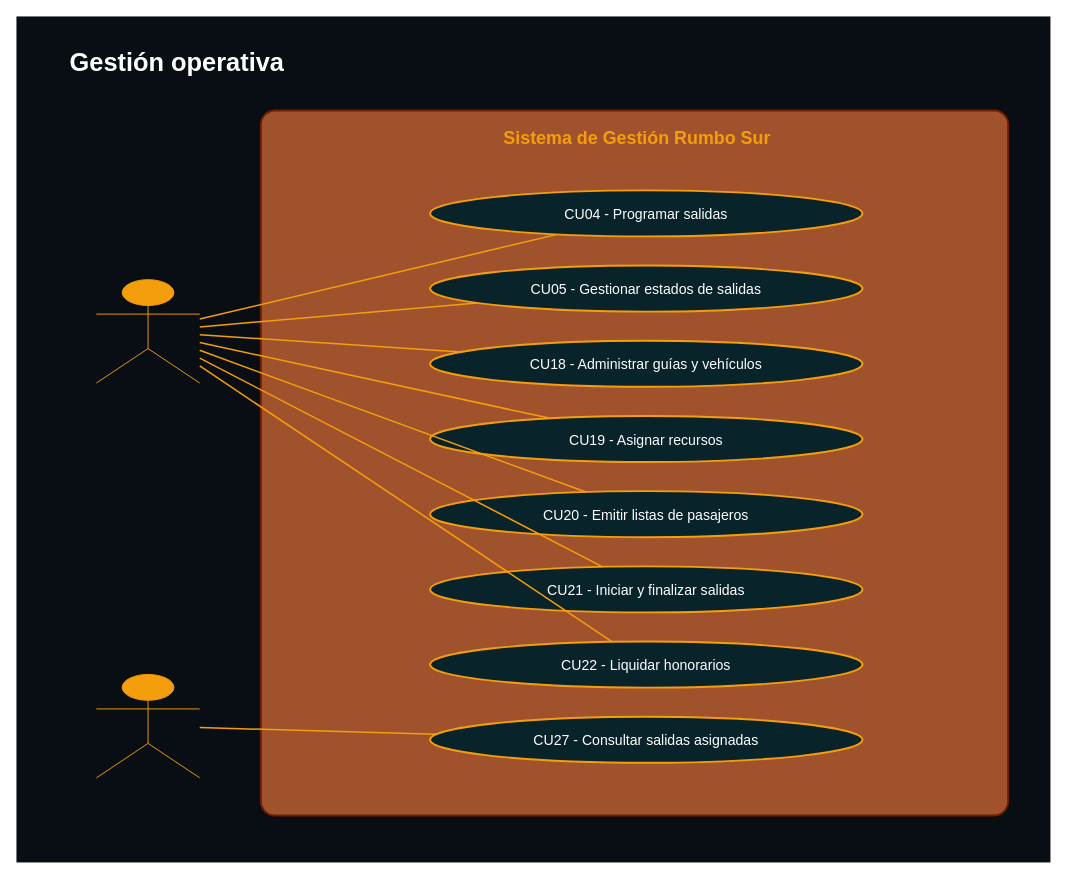
Some shapes in this 1066 by 878 pixel diagram are drawn without their labels. The shapes that lost their labels are listed below. From the top down, each one's box as (x1, y1, x2, y2) in pixels, then its label:
(95, 279, 200, 383): Coordinador de operaciones
(95, 674, 200, 778): Guía de turismo
